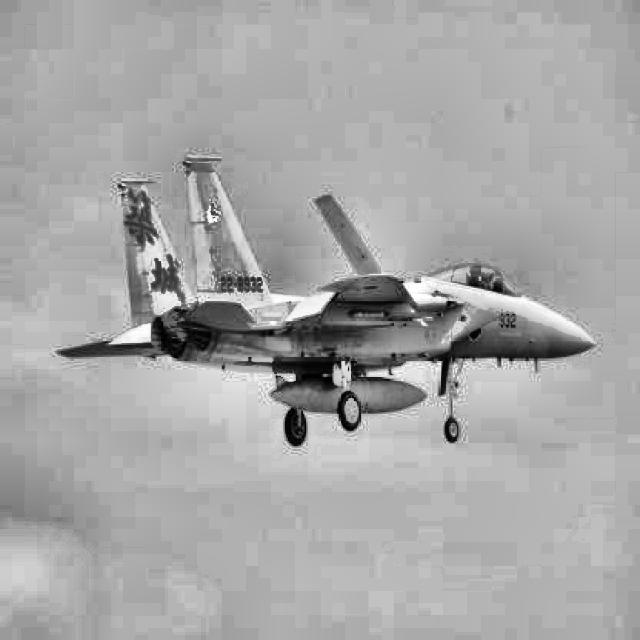F15: (56, 154, 598, 448)
